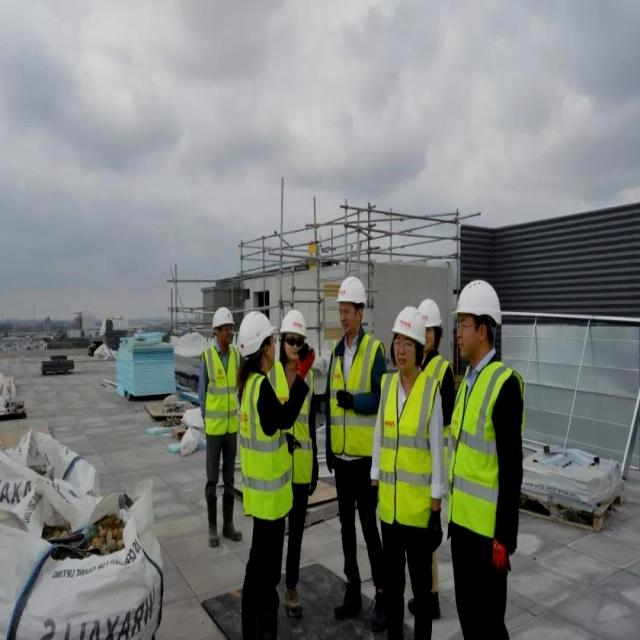face_nomask: (454, 313, 488, 355), (392, 334, 417, 366), (336, 298, 360, 330), (282, 328, 302, 360), (218, 327, 232, 346)
glasses: (391, 334, 418, 352), (454, 317, 474, 337)
hand_glove: (294, 342, 320, 381), (487, 535, 513, 574), (425, 506, 444, 559), (358, 481, 379, 528), (332, 387, 356, 411)
head_helmet: (448, 275, 505, 318), (232, 311, 275, 363), (391, 306, 426, 348), (278, 308, 310, 339), (336, 275, 369, 303), (418, 300, 444, 326), (210, 305, 235, 331)
person: (446, 279, 525, 638), (329, 271, 383, 616), (382, 309, 438, 636), (237, 310, 288, 638), (278, 308, 316, 609), (195, 303, 242, 545), (414, 294, 451, 416)
shoes: (332, 576, 368, 618), (370, 584, 394, 634), (280, 582, 306, 620), (220, 513, 246, 545), (204, 513, 222, 550)
vest: (447, 367, 524, 538), (370, 373, 434, 526), (234, 374, 286, 516), (322, 333, 378, 458), (269, 364, 311, 481), (201, 342, 239, 437)
